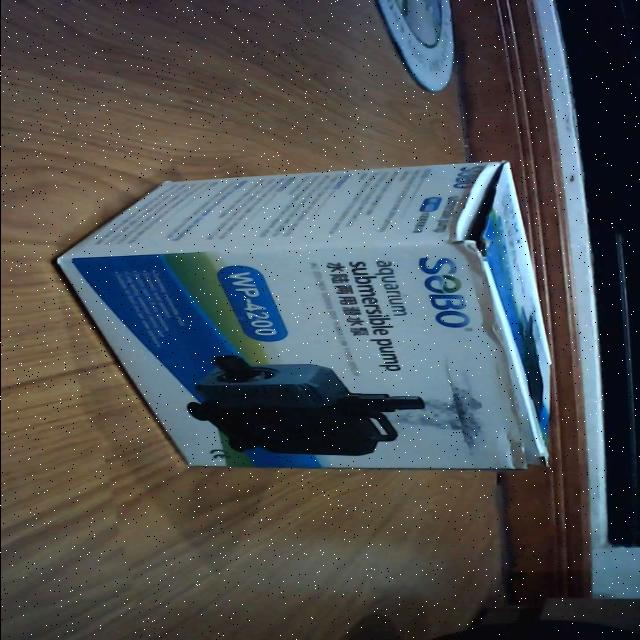SOBO_WP_4200: (41, 149, 598, 481)
